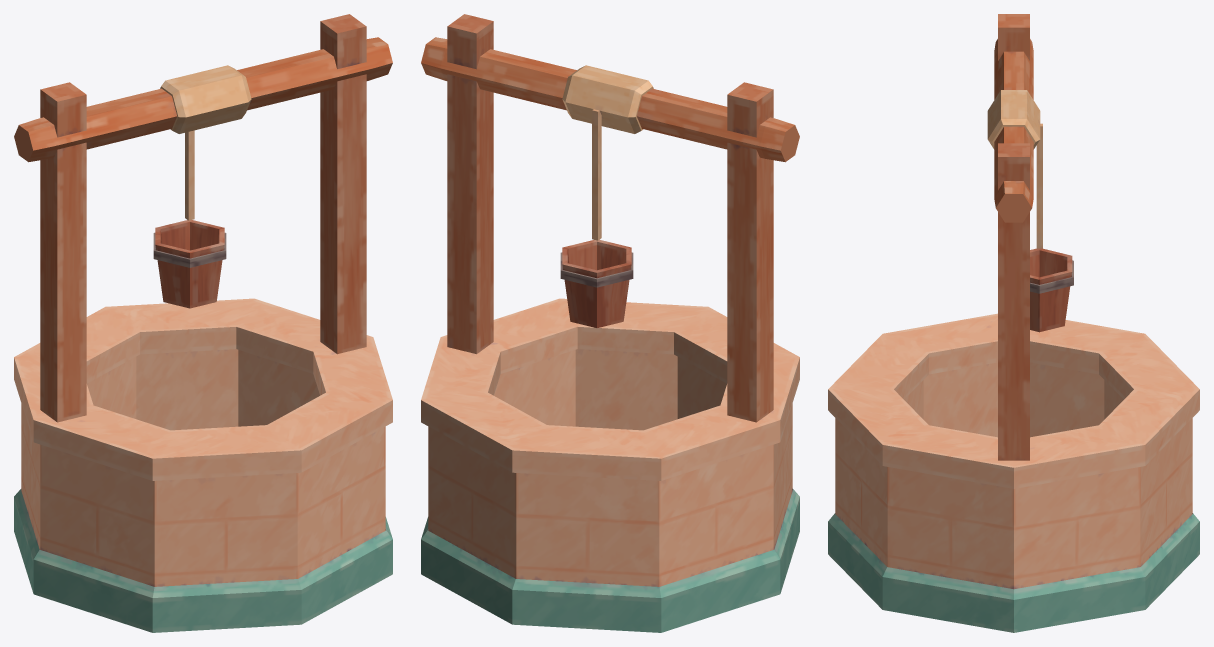
File: well_low.fbx
3 views of the same model, side by side, from view 1: azimuth 30°, elevation 25°; view 2: azimuth 150°, elevation 25°; view 3: azimuth 270°, elevation 25° (orthographic). The views are drawn at different scales.
Visible parts, largest first — view 1: well; view 2: well; view 3: well.
Boxes of the visible parts, bbox=[...] form: well: bbox=[14, 14, 392, 632]; well: bbox=[421, 14, 799, 632]; well: bbox=[828, 14, 1199, 632].
Bounding box in the file's own units: 5.4 × 7.1 × 5.1.
Materials: 1 (1 with a texture image).
